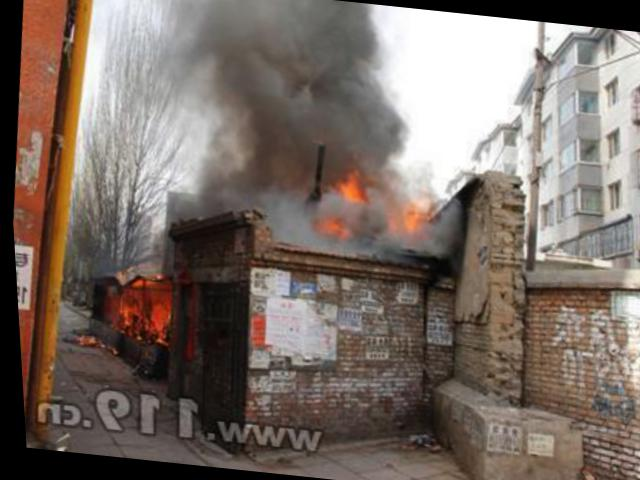fire: (112, 277, 173, 338), (339, 170, 369, 202)
